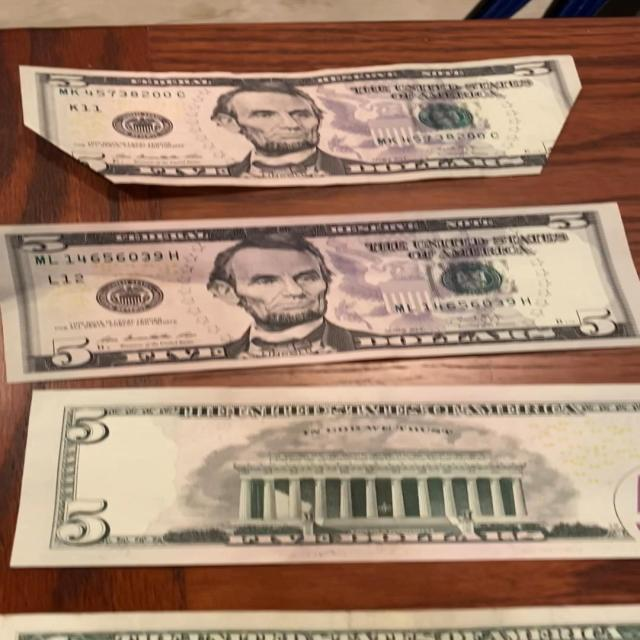5-Back: (10, 385, 640, 571)
5-Front: (0, 198, 639, 385), (18, 52, 584, 190)
